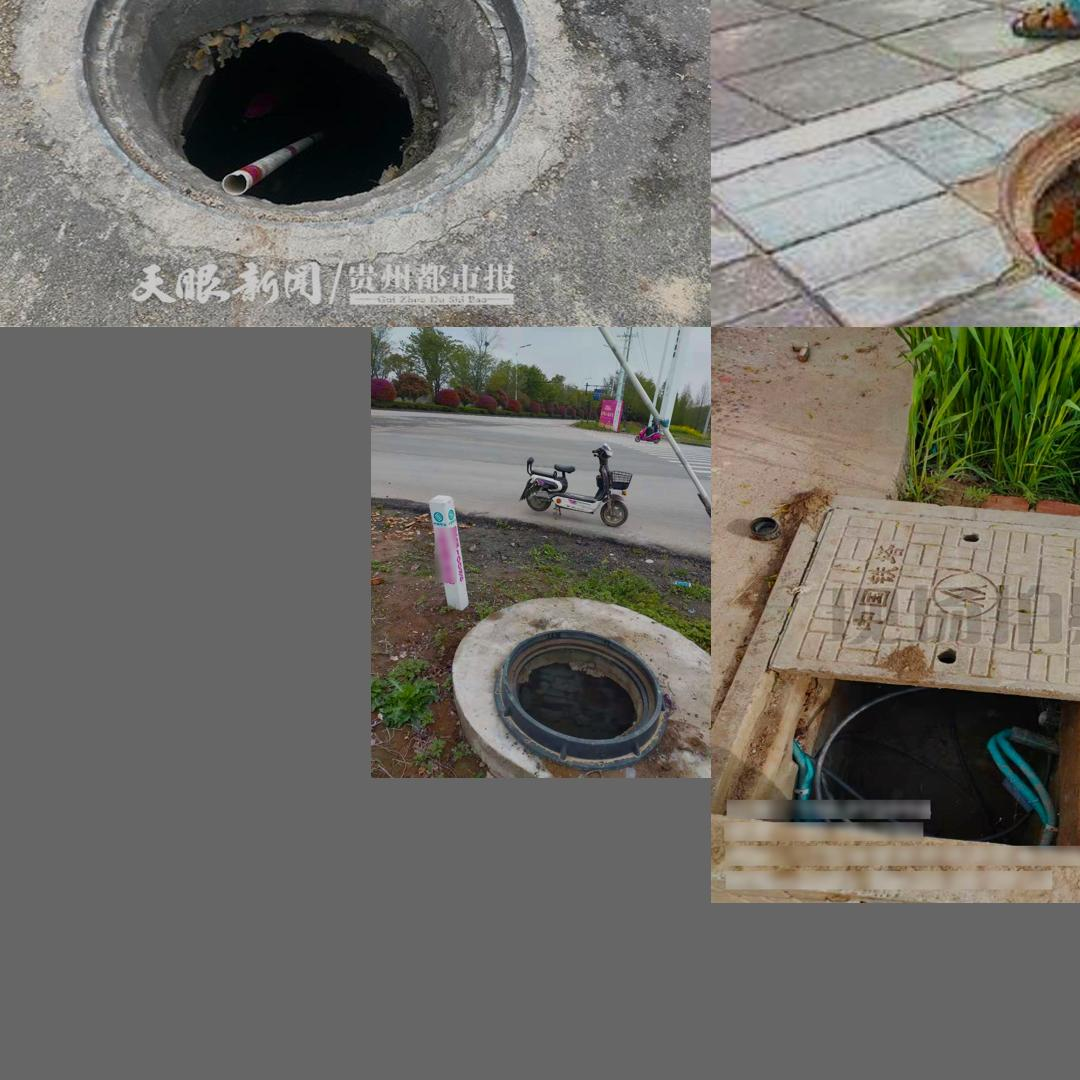lose: (736, 482, 1080, 879), (33, 0, 575, 240), (492, 630, 669, 772), (993, 71, 1080, 324)
